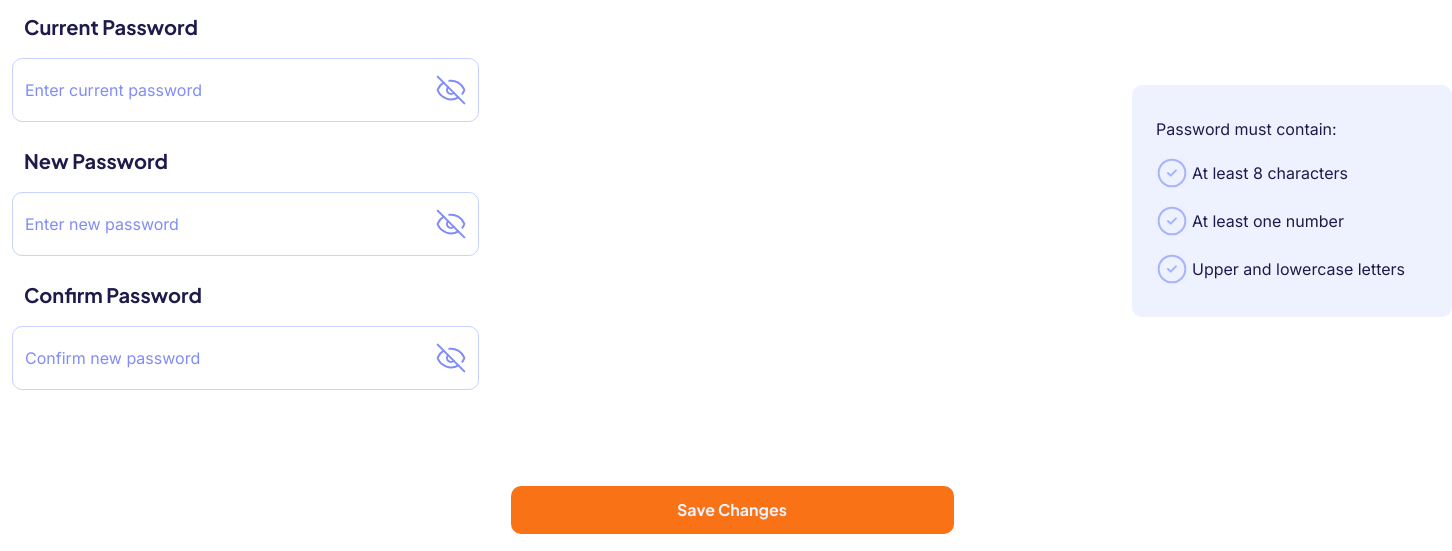
it: ChangePasswordForm — submitting › keeps what was typed when the action rejects it
The width and height of the screenshot is (1452, 551).
Type "WrongPass1" into the password field labelled "Current Password" at (246, 90), box [12,58,479,122]
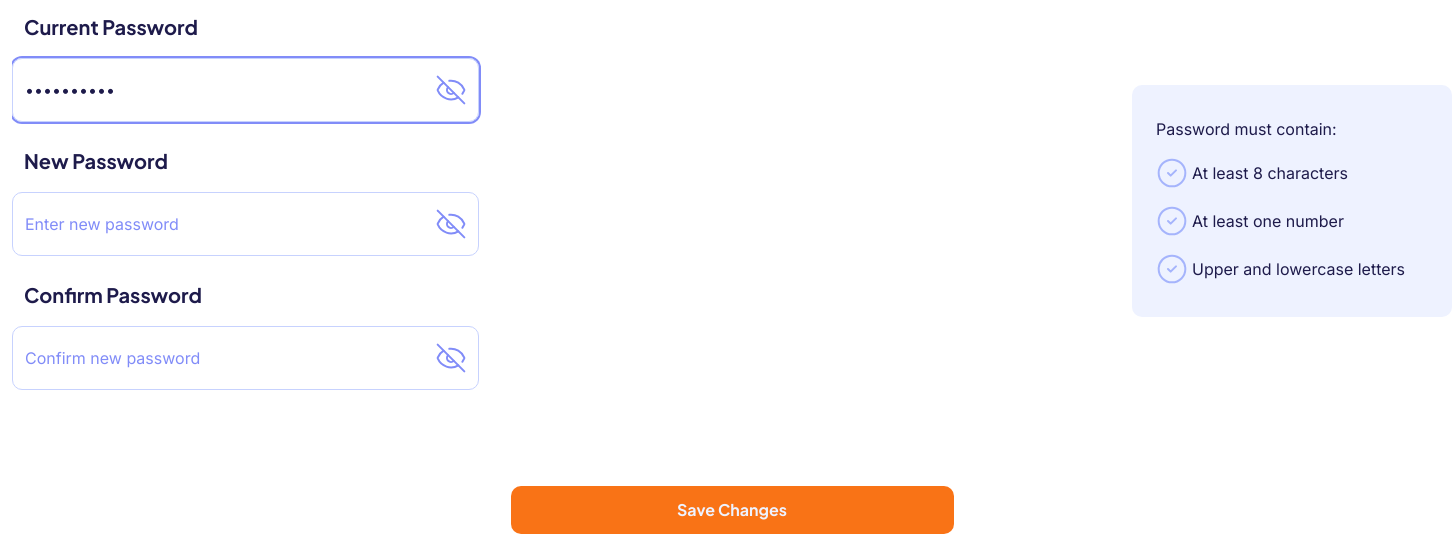
Type "NewPassw0rd" into the password field labelled "New Password" at (246, 224), box [12,192,479,256]
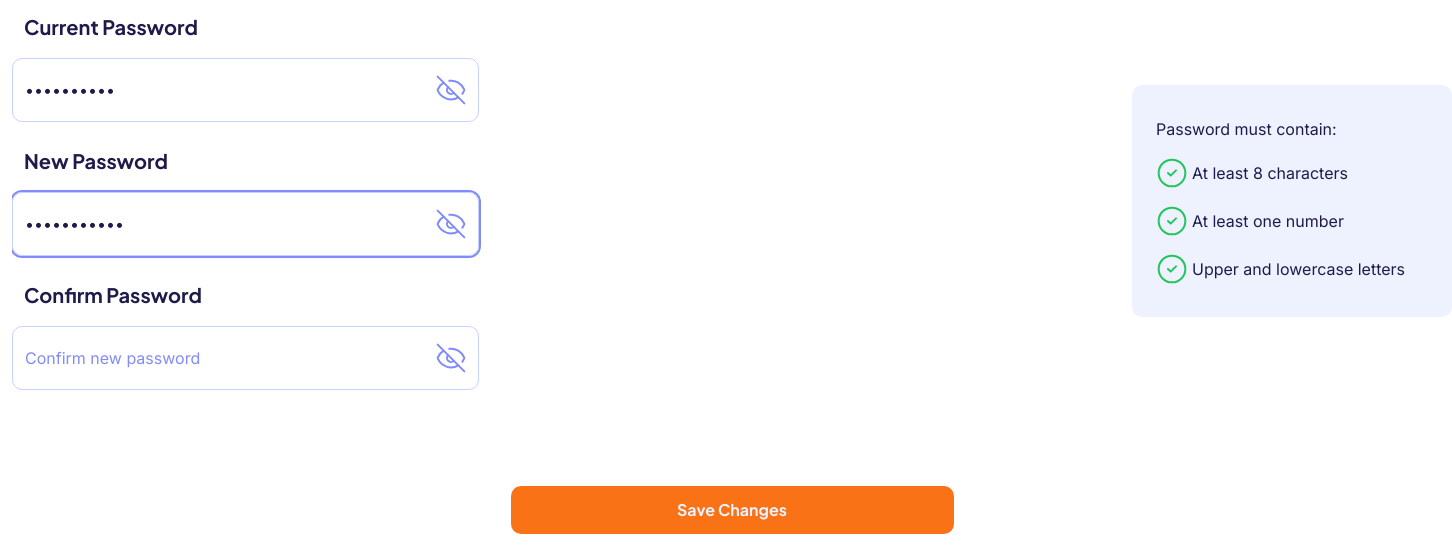
Type "NewPassw0rd" into the password field labelled "Confirm Password" at (246, 358), box [12,326,479,390]
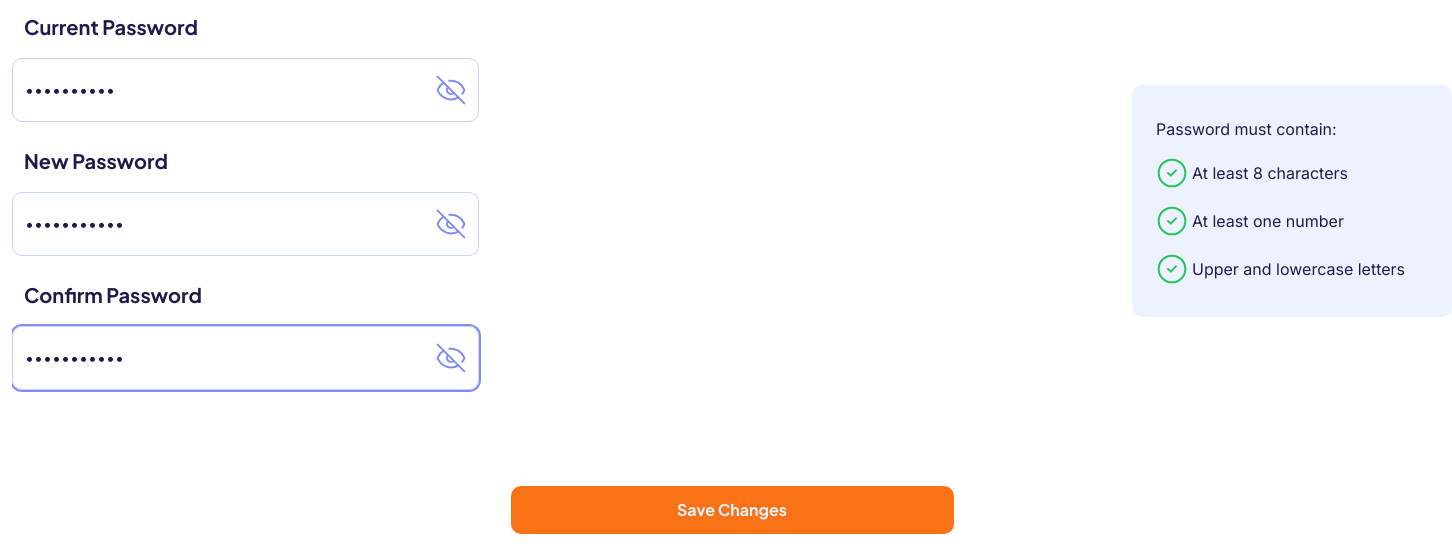
Click the button "Save Changes" at (732, 510), box [510,486,954,534]
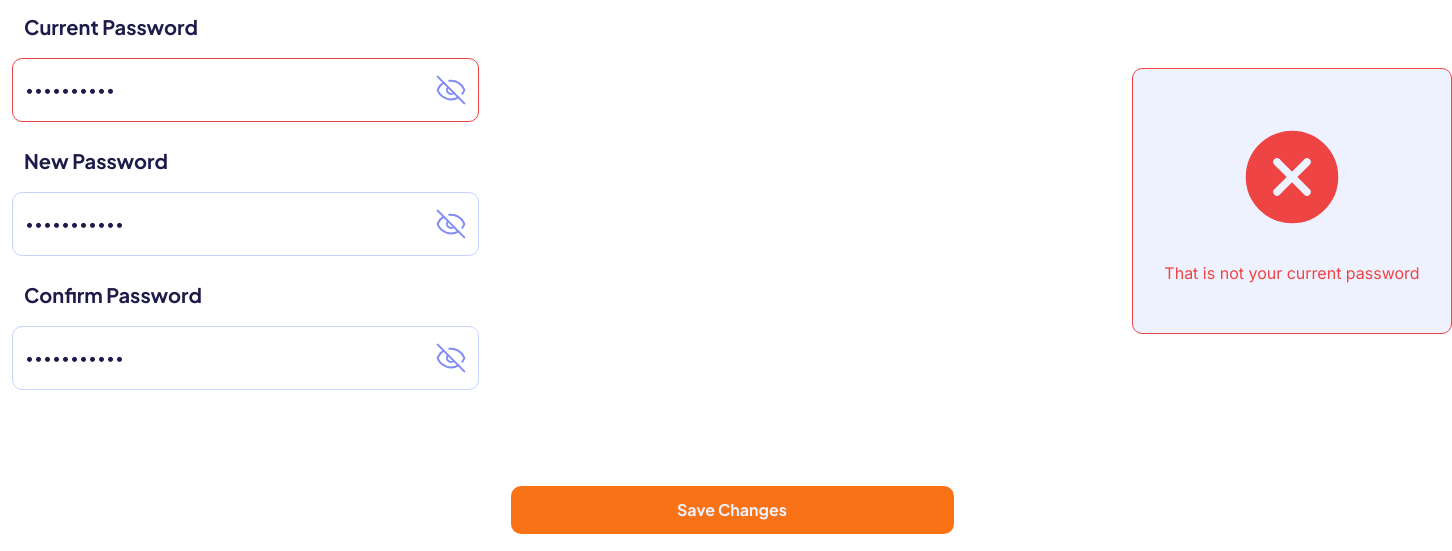
Expected: the text "That is not your current password" is shown, [1164,261,1420,285]
